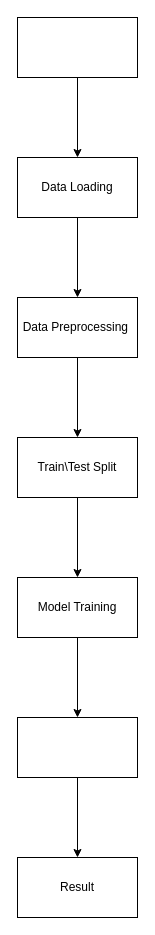
The diagram is 155 pixels wide and 935 high, and some of its shapes have lost their labels. Here are the shapes that lost their labels. From the top down, the centre of each, then its label:
At pixel 77 47: "Database Selection".
At pixel 77 747: "Model Evaluation".
